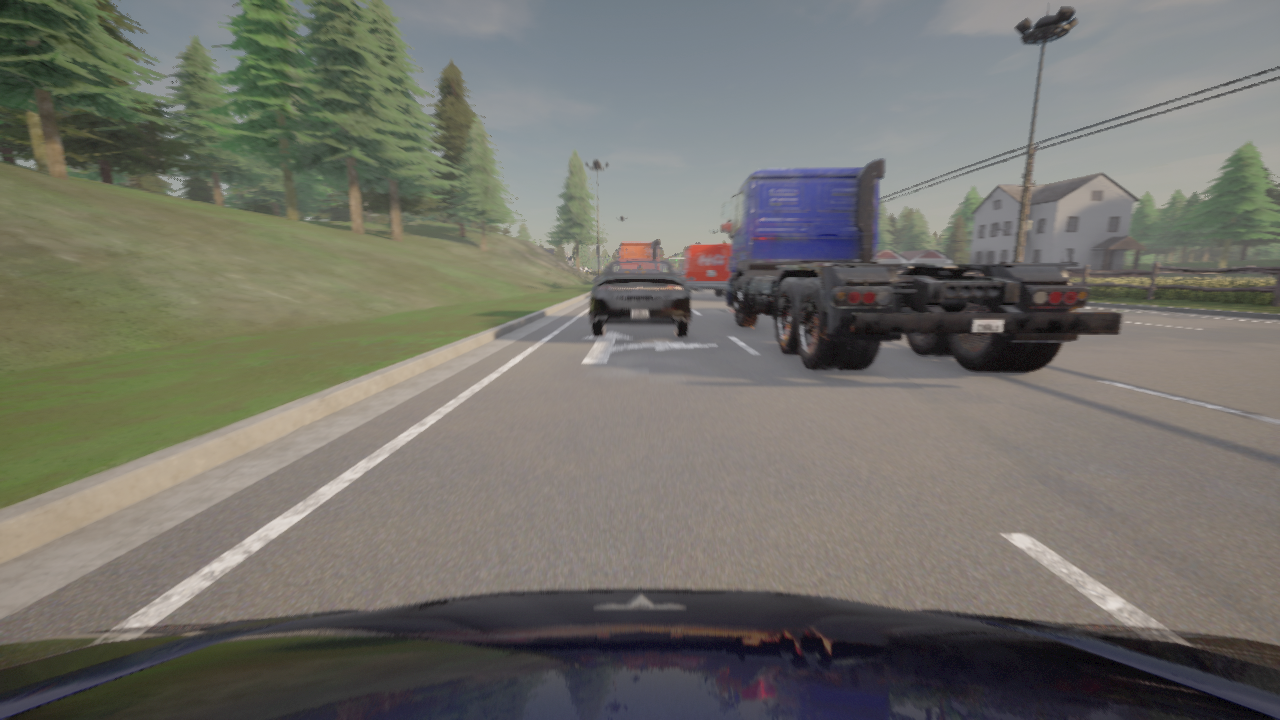cyclist: (0, 588, 1279, 719), (721, 159, 1121, 371), (589, 258, 690, 336), (679, 244, 731, 297), (616, 240, 662, 259), (678, 269, 701, 290), (898, 272, 902, 275)
